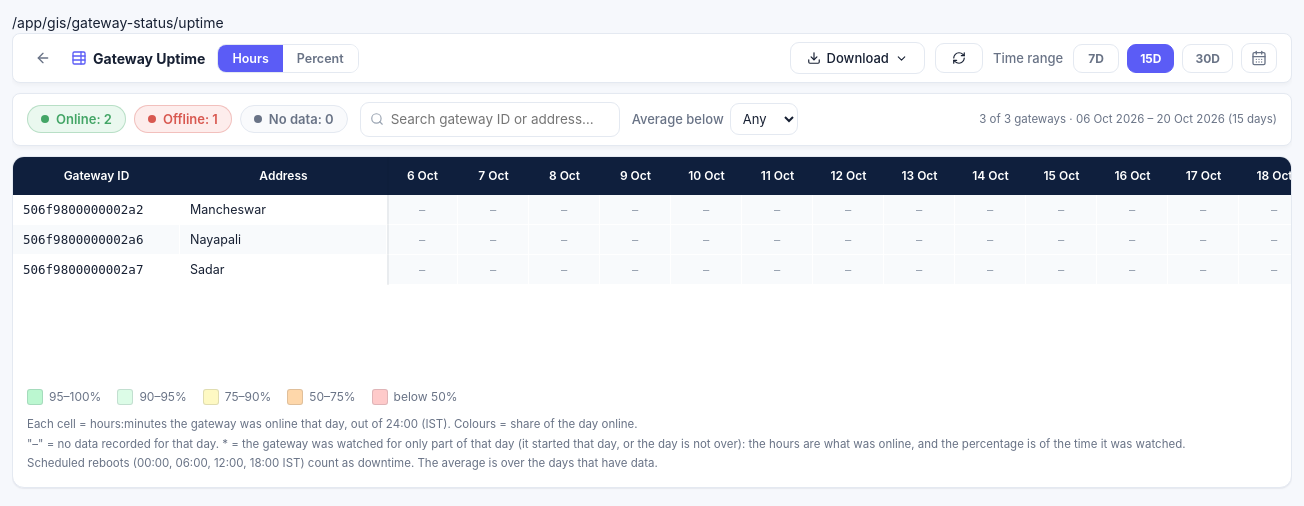
Scenario: Gateway Uptime page › shows hours:minutes with "–" for no data and "*" for a part-watched day, and switches to percent
Check: the text "506f9800000002a6" is shown, box 13,225 -> 180,255
What coordinates should you click on to do the following:
click the button "Percent"
I would click on:
 (320, 58)
Its box is 283,44 -> 358,72.
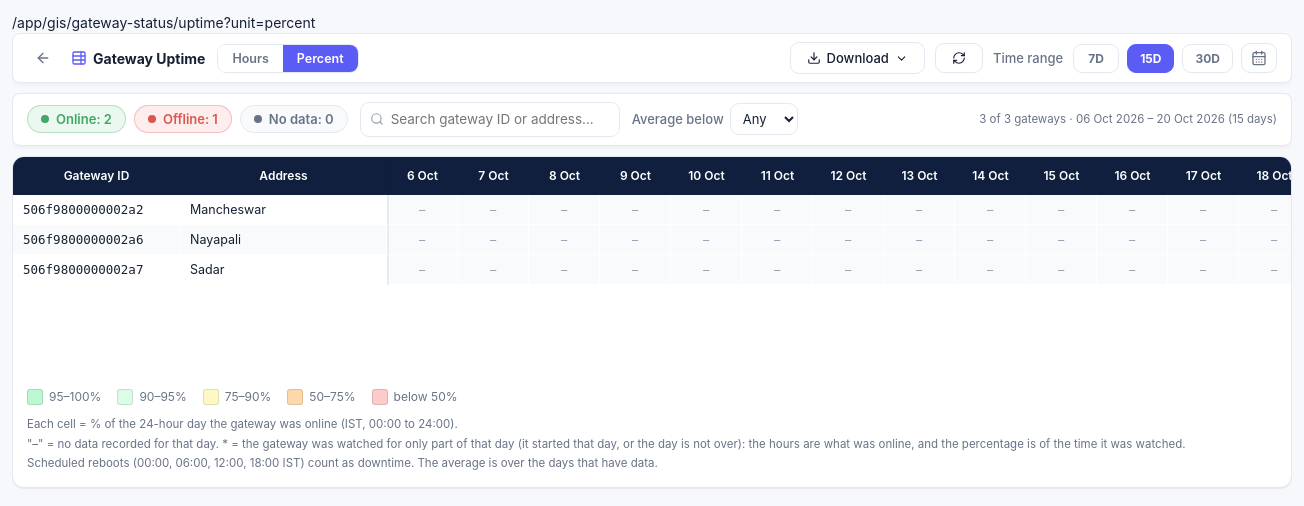
Check: the text with test id "where" shows "unit=percent", box 224,14 -> 315,31
